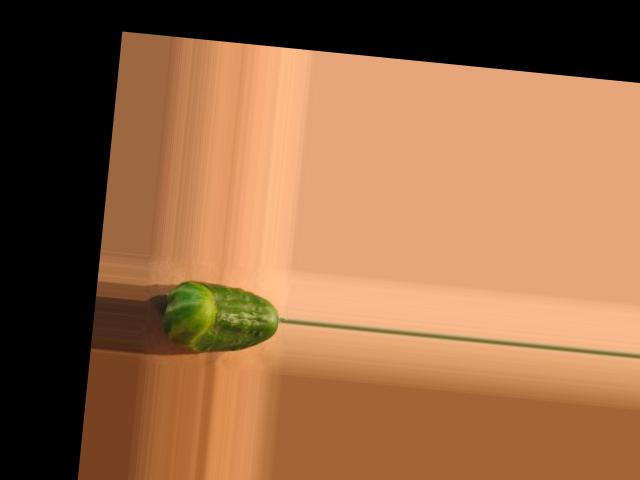cucumber: (161, 277, 282, 358)
